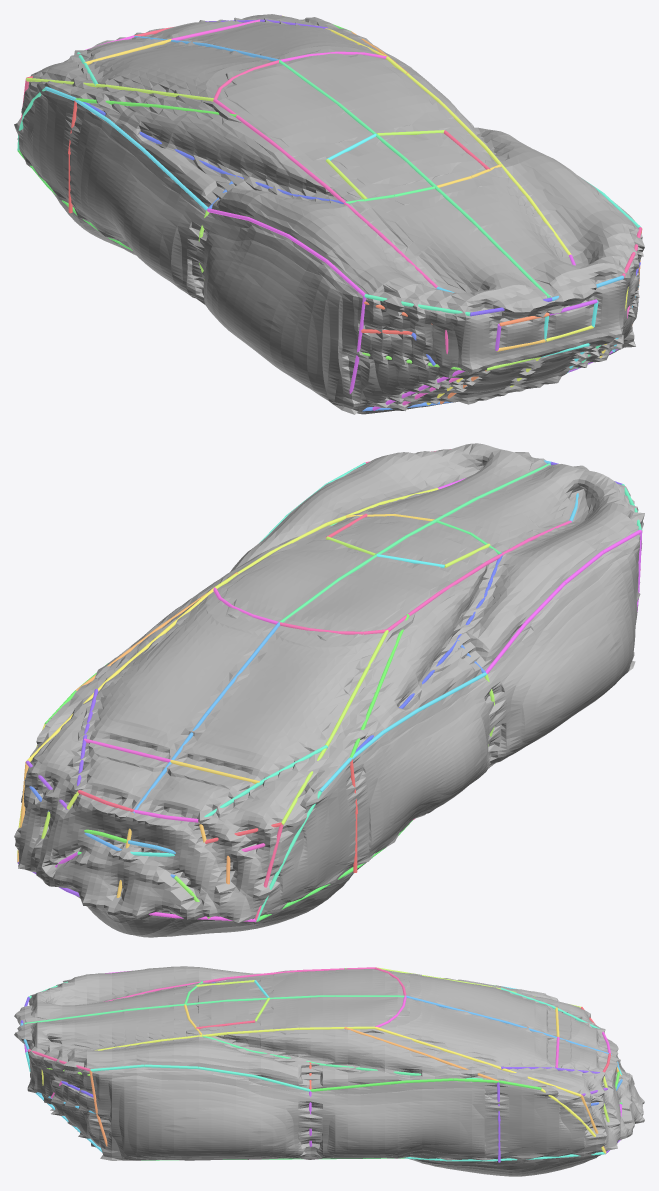
File: ils_car3.gltf
3 views of the same model, one above another, from view 1: azimuth 30°, elevation 25°; view 2: azimuth 150°, elevation 25°; view 3: azimuth 270°, elevation 25° (orthographic). The views are drawn at different scales.
Bounding box in the file's own units: 0.4254 × 0.2627 × 0.9378.
